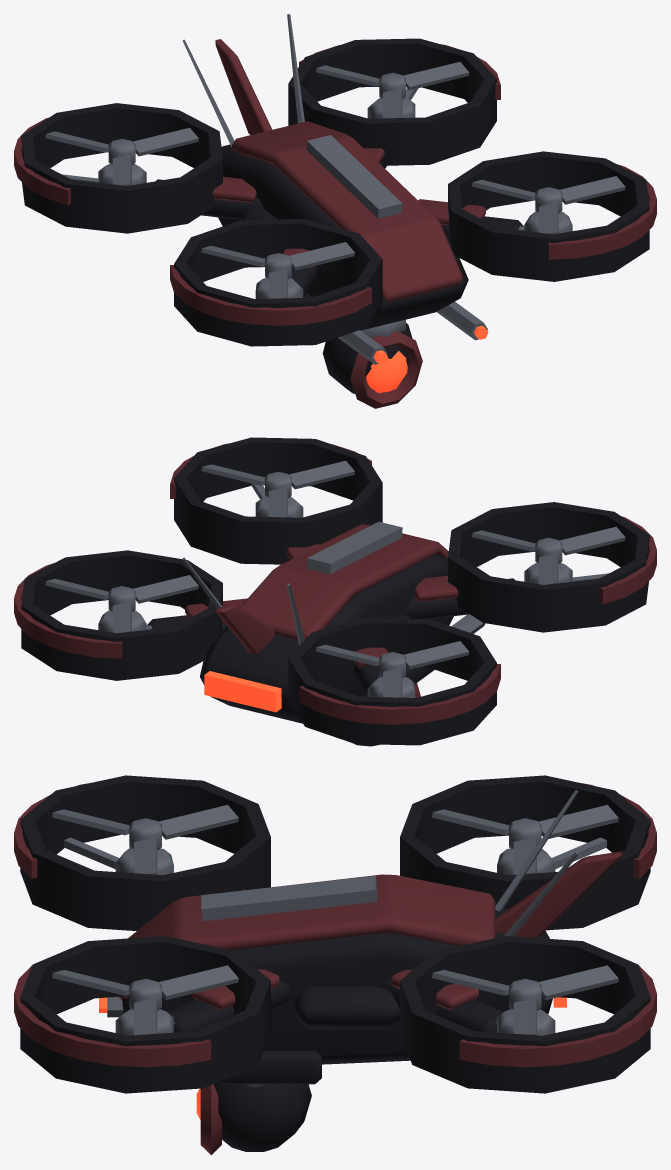
The model's file is enemy_drone.glb.
The picture shows the model from 3 angles, top to bottom: view 1: azimuth 30°, elevation 25°; view 2: azimuth 150°, elevation 25°; view 3: azimuth 270°, elevation 25°; orthographic projection. The views are drawn at different scales.
Visible parts, largest first — view 1: body, eye, spin_2, spin_4, spin_3, spin_1; view 2: body, spin_3, spin_1, spin_2, spin_4; view 3: body, eye, spin_3, spin_4, spin_1, spin_2.
Boxes of the visible parts, <box> form: body: <box>14,14,656,364</box>; eye: <box>322,323,422,408</box>; spin_2: <box>45,127,198,185</box>; spin_4: <box>472,176,625,234</box>; spin_3: <box>201,242,354,298</box>; spin_1: <box>316,62,469,118</box>; body: <box>14,437,656,745</box>; spin_3: <box>472,526,625,584</box>; spin_1: <box>45,575,198,633</box>; spin_2: <box>316,641,469,697</box>; spin_4: <box>201,460,354,517</box>; body: <box>14,775,656,1093</box>; eye: <box>196,1082,311,1155</box>; spin_3: <box>52,805,238,874</box>; spin_4: <box>52,965,238,1035</box>; spin_1: <box>432,965,618,1035</box>; spin_2: <box>432,805,618,874</box>.
Size of the model in its own units: 0.9577 by 0.539 by 0.9577.
